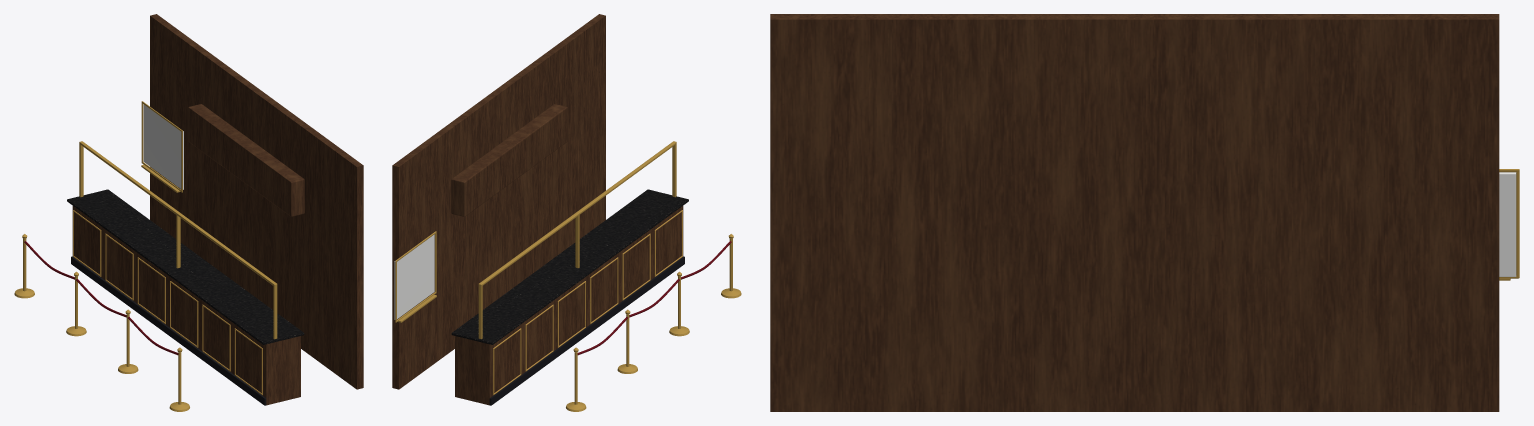
Rendered from SM_CR_Desk.glb.
The picture shows the model from 3 angles, left to right: view 1: azimuth 30°, elevation 25°; view 2: azimuth 150°, elevation 25°; view 3: azimuth 270°, elevation 25°; orthographic projection. The views are drawn at different scales.
Visible parts, largest first — view 1: SM_CR_Desk; view 2: SM_CR_Desk; view 3: SM_CR_Desk.
Part boxes in pixels (box(x1,y1,x2,y2)): SM_CR_Desk: box(14, 14, 363, 411); SM_CR_Desk: box(392, 14, 741, 411); SM_CR_Desk: box(770, 14, 1519, 411).
Bounding box in the file's own units: 2.98 × 3.8 × 6.58.
8 materials, 8 textured.
